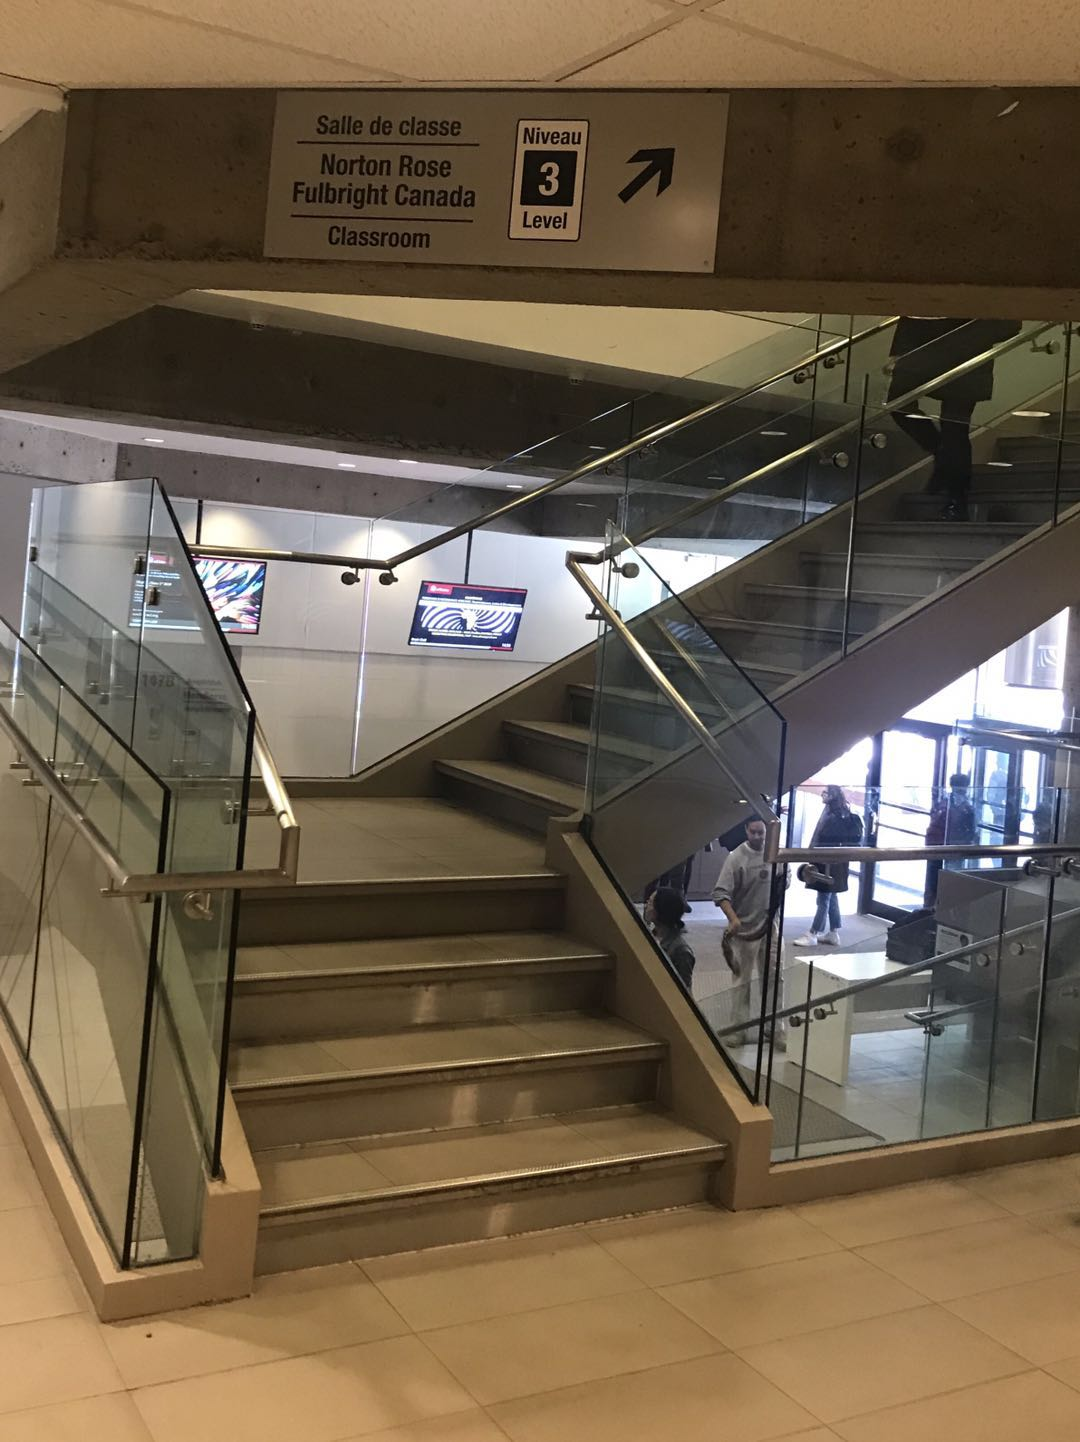person: (713, 818, 792, 1049), (800, 784, 865, 944)
sign: (264, 91, 730, 273)
stair: (144, 510, 1048, 1277)
